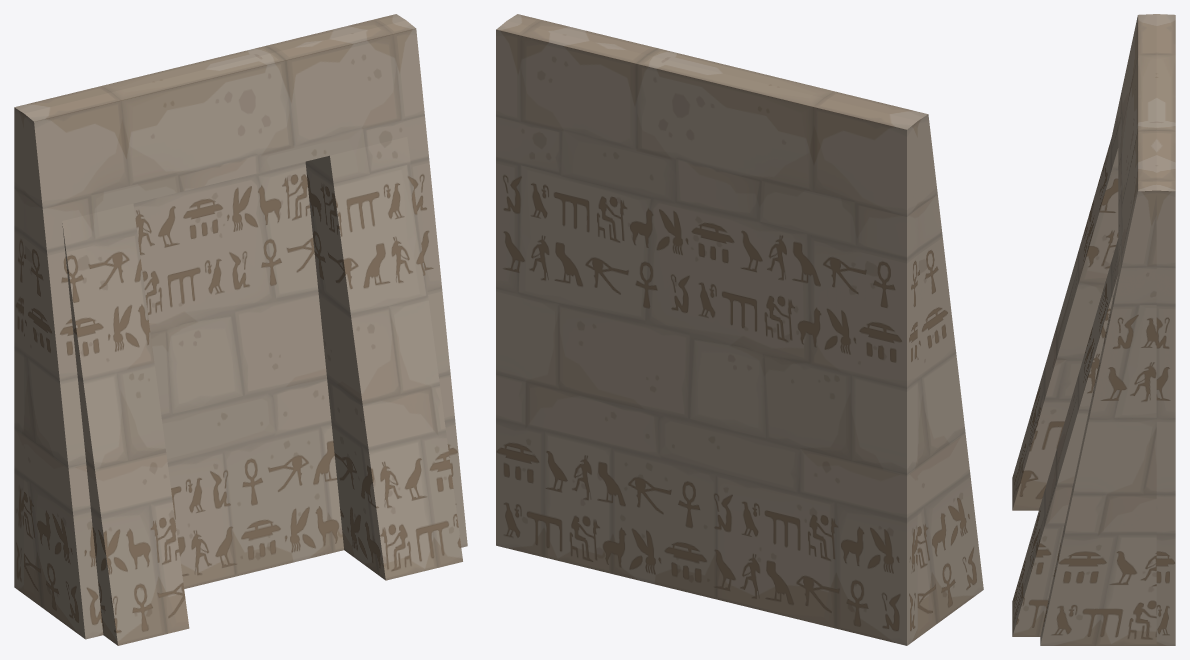
Rendered from SM_Bld_Wall_Temple_Top_03.fbx.
The picture shows the model from 3 angles, left to right: view 1: azimuth 30°, elevation 25°; view 2: azimuth 150°, elevation 25°; view 3: azimuth 270°, elevation 25°; orthographic projection. The views are drawn at different scales.
Parts seen in each view (by area): view 1: SM_Bld_Wall_Temple_Top_03; view 2: SM_Bld_Wall_Temple_Top_03; view 3: SM_Bld_Wall_Temple_Top_03.
Part boxes in pixels (x1,y1,x2,y2): SM_Bld_Wall_Temple_Top_03: (14,14,467,645); SM_Bld_Wall_Temple_Top_03: (496,14,983,645); SM_Bld_Wall_Temple_Top_03: (1012,14,1175,645).
Size of the model in its own units: 500 by 601 by 195.
